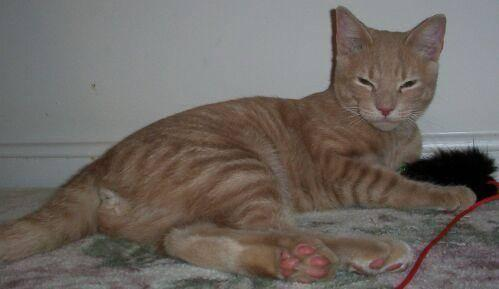cat: (0, 7, 477, 281)
